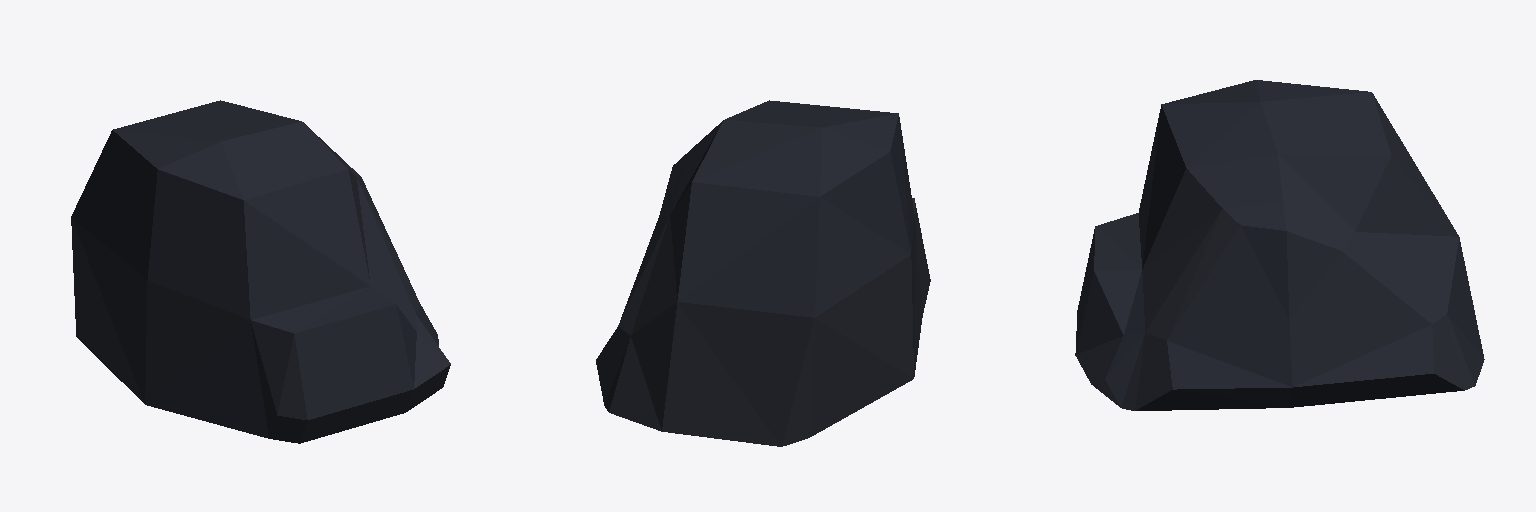
The model's file is Rock5.obj.
The picture shows the model from 3 angles: view 1: azimuth 30°, elevation 25°; view 2: azimuth 150°, elevation 25°; view 3: azimuth 270°, elevation 25°; orthographic projection.
Visible parts, largest first — view 1: Rock_5_Cube.024; view 2: Rock_5_Cube.024; view 3: Rock_5_Cube.024.
Boxes of the visible parts, x1,y1,x2,y2 form: Rock_5_Cube.024: [71, 100, 450, 443]; Rock_5_Cube.024: [596, 100, 930, 446]; Rock_5_Cube.024: [1075, 80, 1484, 410].
Size of the model in its own units: 0.6632 by 0.6528 by 0.9148.